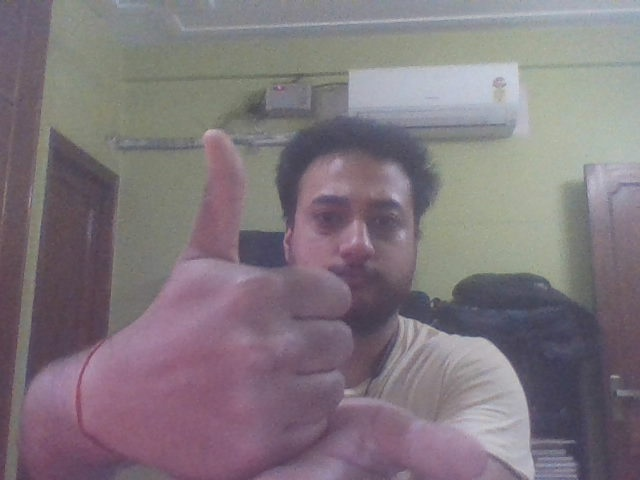Help: (39, 124, 499, 480)
